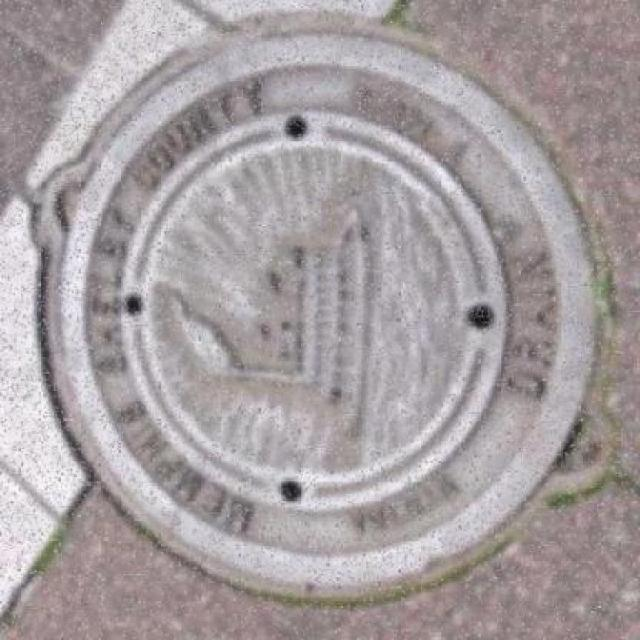Manhole: (23, 11, 632, 612)
